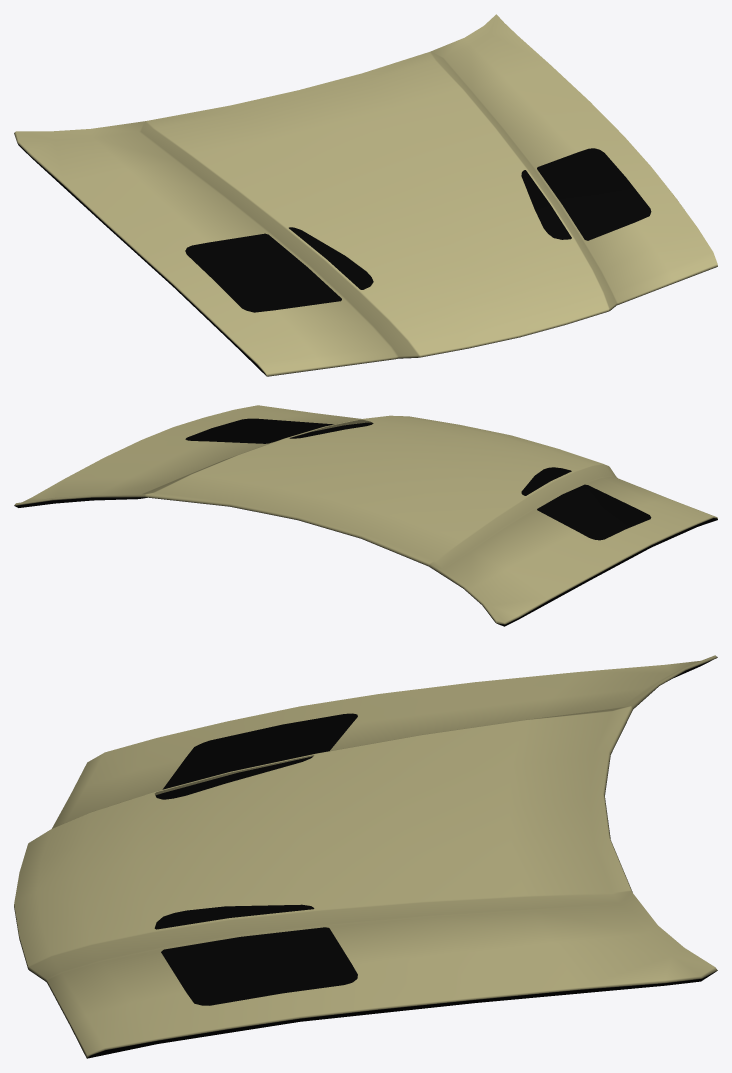
Rendered from AdamLZ_E36_Hood_Duco.fbx.
3 views of the same model, one above another, from view 1: azimuth 30°, elevation 25°; view 2: azimuth 150°, elevation 25°; view 3: azimuth 270°, elevation 25° (orthographic). The views are drawn at different scales.
Parts seen in each view (by area): view 1: AdamLZ_E36_Hood_Duco; view 2: AdamLZ_E36_Hood_Duco; view 3: AdamLZ_E36_Hood_Duco.
Boxes of the visible parts, x1=… form: AdamLZ_E36_Hood_Duco: x1=14, y1=14, x2=717, y2=376; AdamLZ_E36_Hood_Duco: x1=14, y1=405, x2=717, y2=626; AdamLZ_E36_Hood_Duco: x1=14, y1=655, x2=717, y2=1058.
Size of the model in its own units: 143 by 25.15 by 135.
